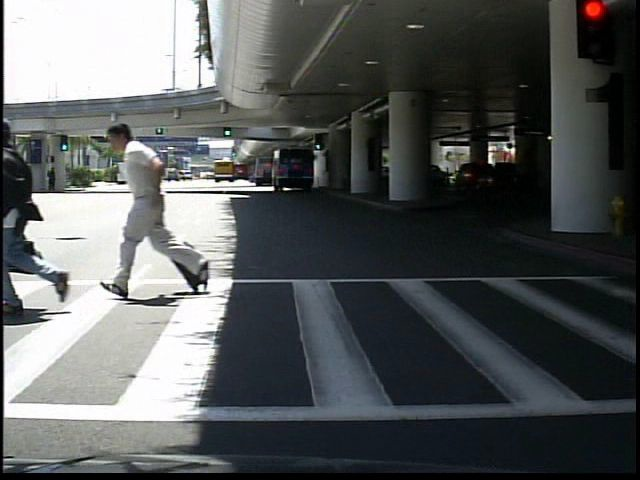person: (7, 104, 95, 317), (117, 120, 197, 299)
